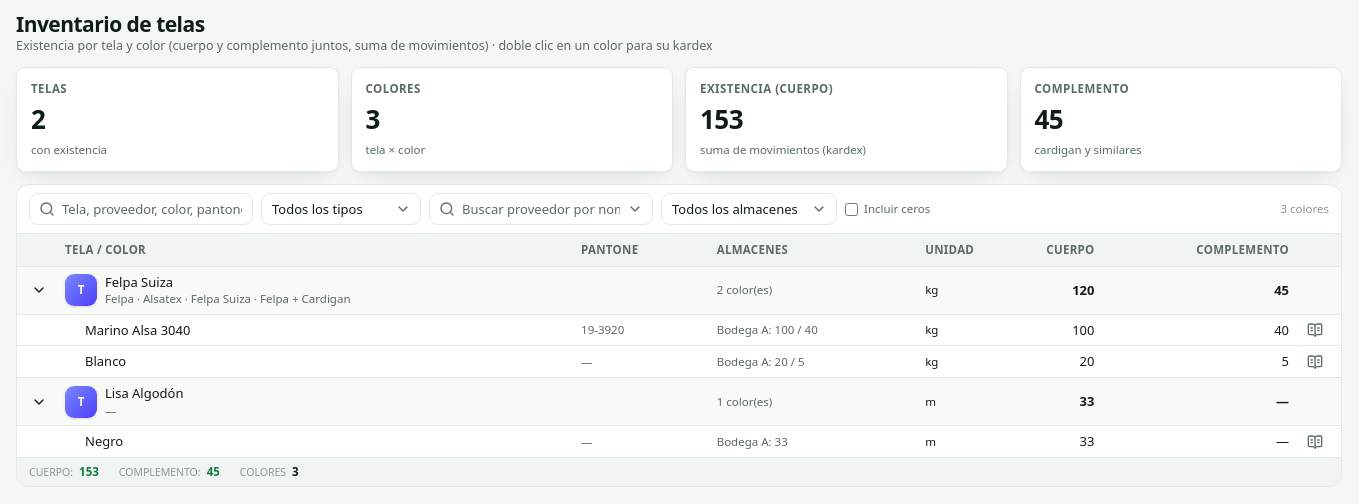
Test case: ExistenciasTelasColorPagina (A2 — inventario nuevo por color) › colapsa y re-expande los colores de una tela con el toggle
Check: the row with test id "telas-color-fila-11" is shown, box [17,314,1341,346]
Click the button with test id "telas-color-toggle-1" at (39, 290), box [25,276,53,304]
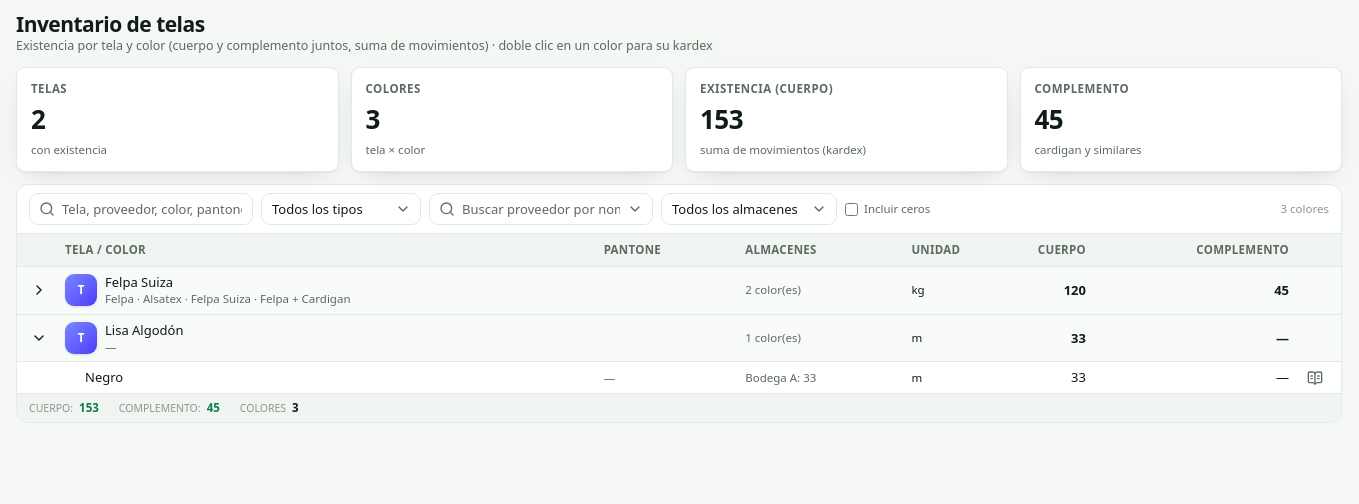
Check: the row with test id "telas-color-fila-11" is gone
Click the button with test id "telas-color-toggle-1" at (39, 290), box [25,276,53,304]
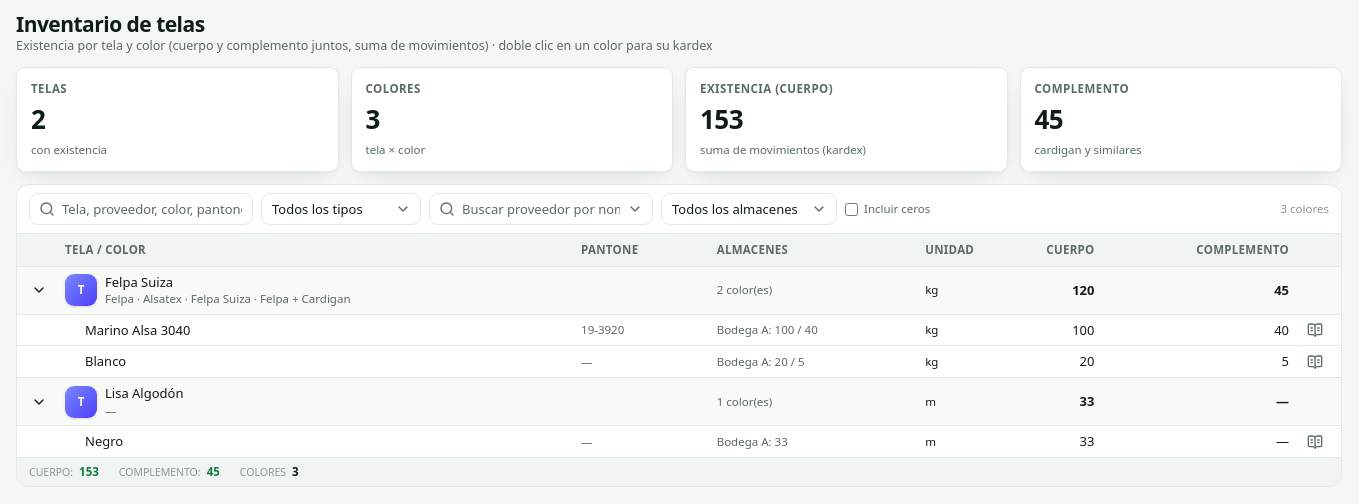
Check: the row with test id "telas-color-fila-11" is shown, box [17,314,1341,346]
